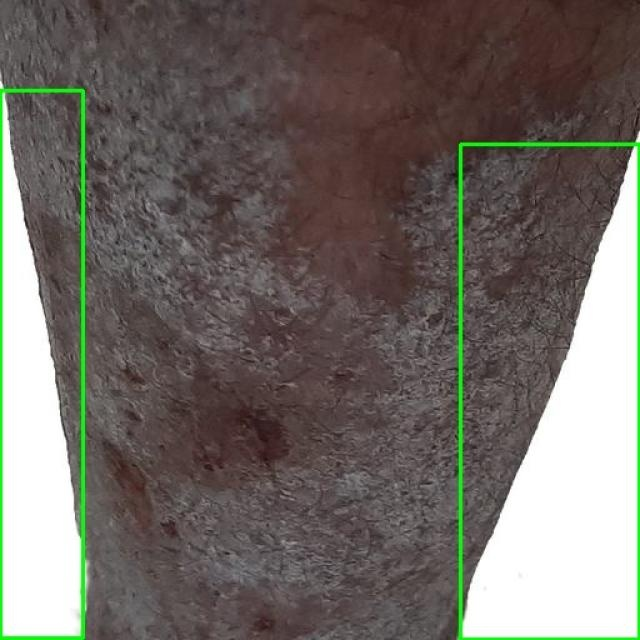Contact Dermatitis: (460, 144, 639, 639), (0, 90, 84, 639)
